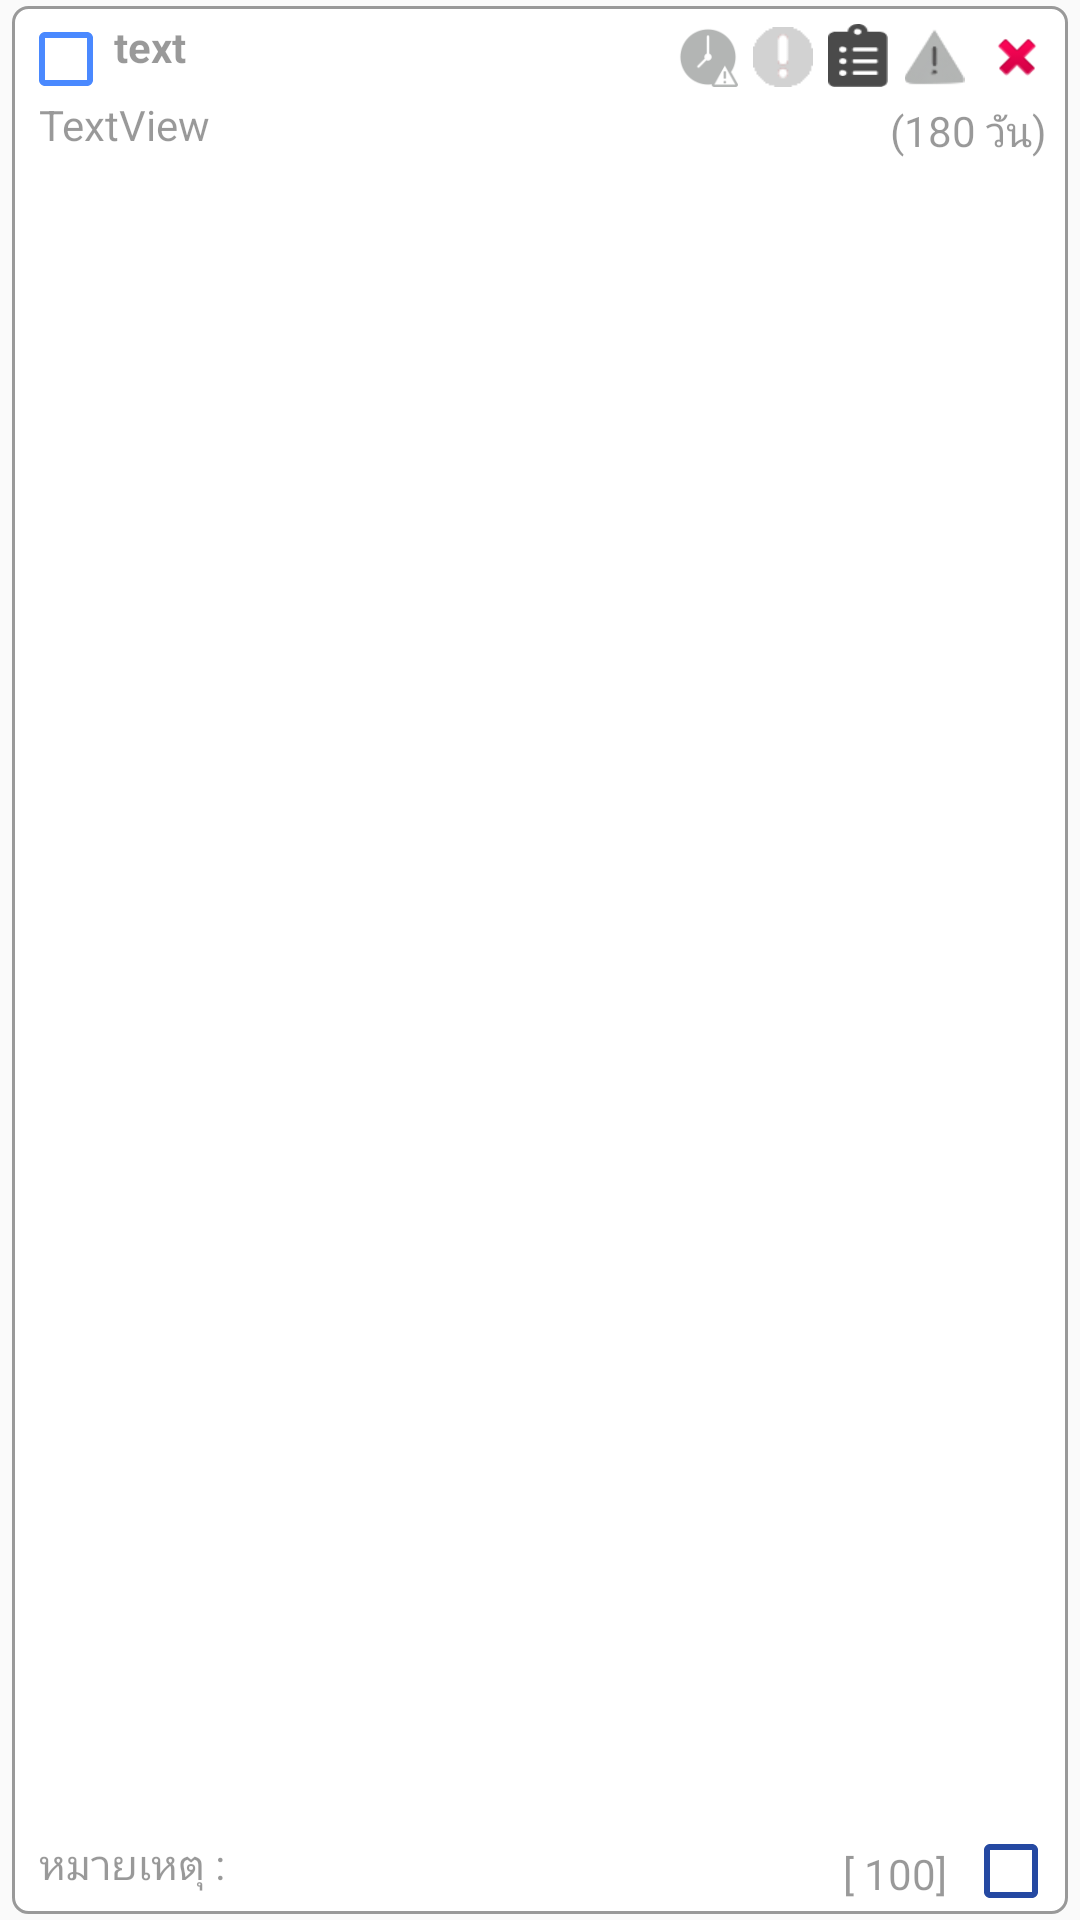

Icon click points for this 1080px×1920px phone screenshot, format (x,y):
delete: (1017,57)
list: (858,55)
